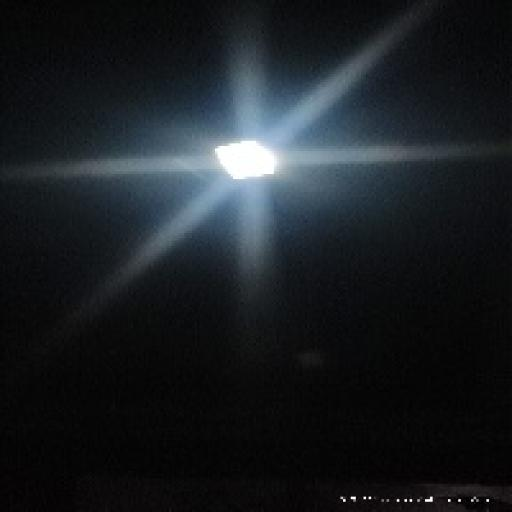Working: (201, 129, 291, 192)
